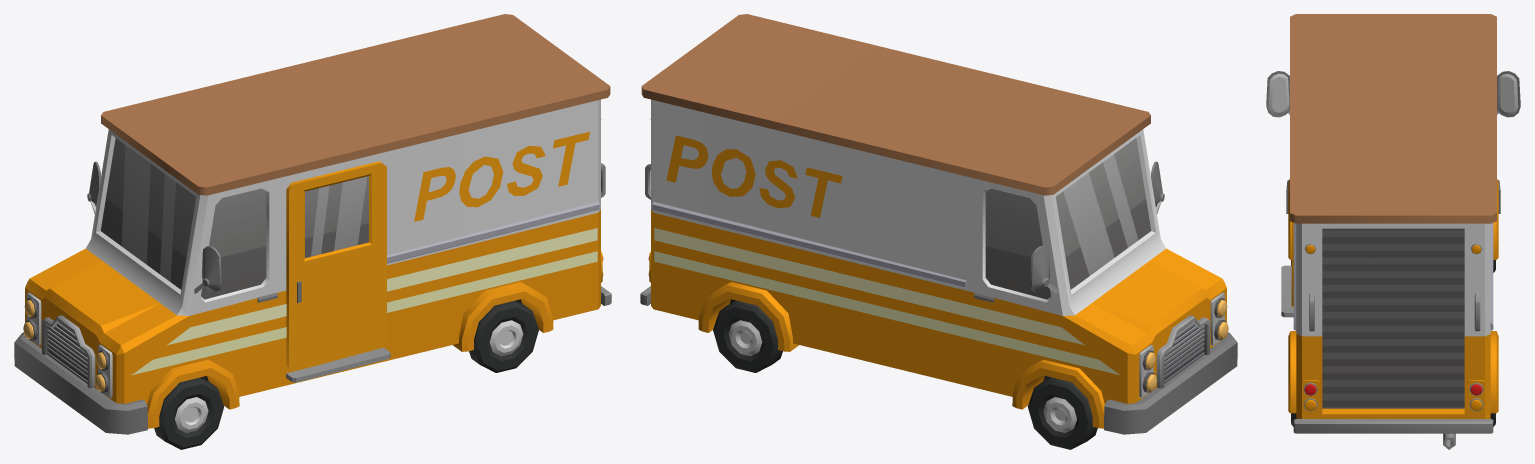
Rendered from PostCar_1_H.fbx.
The picture shows the model from 3 angles, left to right: view 1: azimuth 30°, elevation 25°; view 2: azimuth 150°, elevation 25°; view 3: azimuth 270°, elevation 25°; orthographic projection.
Visible parts, largest first — view 1: PostCar_1_H, RL, FL; view 2: PostCar_1_H, RR, FR; view 3: PostCar_1_H.
Part boxes in pixels (left/top/right/bottom): PostCar_1_H: left=14, top=14, right=611, bottom=434; RL: left=469, top=300, right=538, bottom=372; FL: left=154, top=377, right=223, bottom=449; PostCar_1_H: left=640, top=14, right=1237, bottom=434; RR: left=713, top=300, right=782, bottom=372; FR: left=1028, top=377, right=1097, bottom=449; PostCar_1_H: left=1266, top=14, right=1520, bottom=449.
Bounding box in the file's own units: 4.14 × 2.02 × 1.8.
